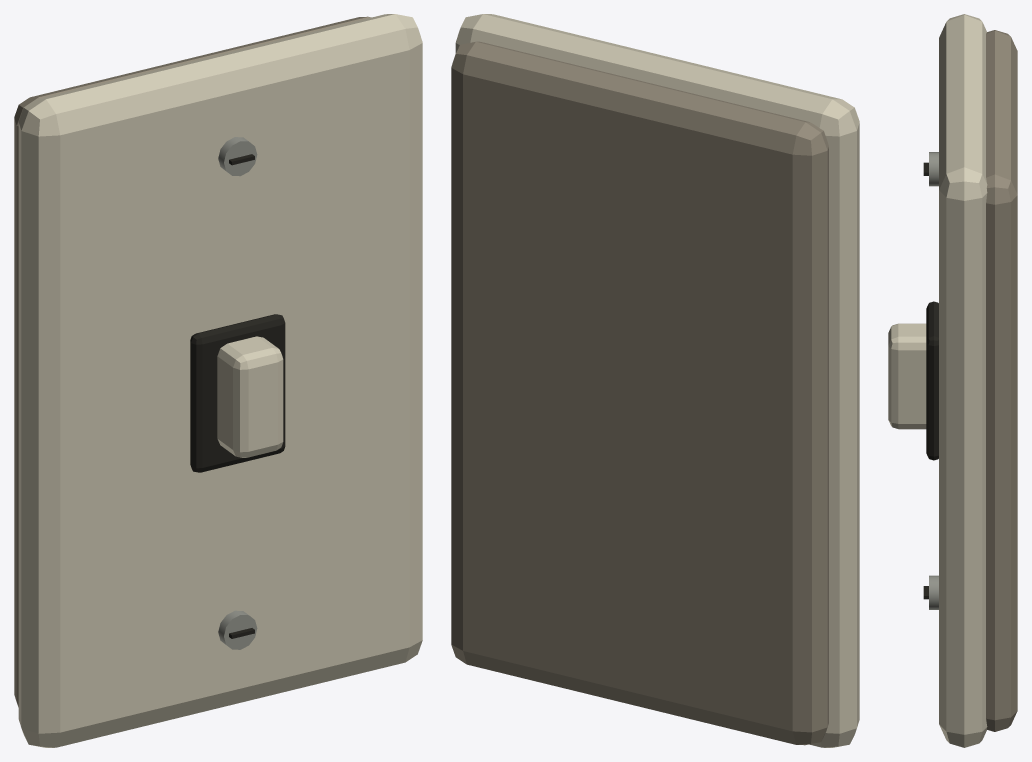
Rendered from switch.glb.
3 views of the same model, side by side, from view 1: azimuth 30°, elevation 25°; view 2: azimuth 150°, elevation 25°; view 3: azimuth 270°, elevation 25° (orthographic). The views are drawn at different scales.
Visible parts, largest first — view 1: Switch_Faceplate, Switch_Toggle, Switch_Toggle_Socket, Switch_Back_Shadow, Switch_Screw, Switch_Screw.001; view 2: Switch_Back_Shadow, Switch_Faceplate; view 3: Switch_Faceplate, Switch_Back_Shadow, Switch_Toggle, Switch_Toggle_Socket, Switch_Screw, Switch_Screw.001.
Part boxes in pixels (x1,y1,x2,y2): Switch_Faceplate: (18, 14, 422, 747); Switch_Toggle: (217, 336, 283, 457); Switch_Toggle_Socket: (190, 314, 285, 472); Switch_Back_Shadow: (14, 16, 371, 707); Switch_Screw: (218, 610, 257, 649); Switch_Screw.001: (218, 137, 257, 176); Switch_Back_Shadow: (451, 41, 828, 745); Switch_Faceplate: (455, 14, 859, 747); Switch_Faceplate: (939, 14, 987, 747); Switch_Back_Shadow: (986, 30, 1017, 731); Switch_Toggle: (888, 323, 926, 429); Switch_Toggle_Socket: (926, 301, 938, 460); Switch_Screw: (929, 575, 938, 609); Switch_Screw.001: (929, 152, 938, 186).
Size of the model in its own units: 0.081 by 0.126 by 0.0255.
